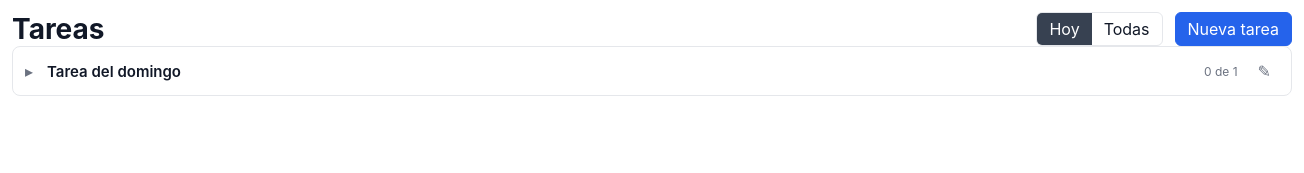
Hoy muestra solo lo que corresponde; Todas muestra todo
Expected: the text "Precarga de videos" is not shown
Expected: the text "Tarea del domingo" is shown, [47,62,181,80]
Click the button "Todas": (1127, 29) [1092,13,1162,45]
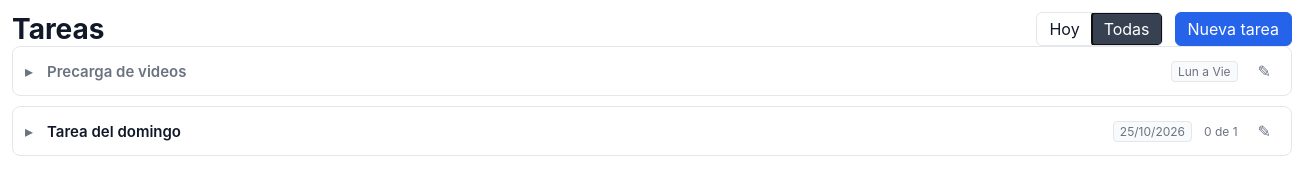
Expected: the text "Precarga de videos" is shown, [47,62,186,80]
Expected: the text "Lun a Vie" is shown, [1171,60,1238,82]
